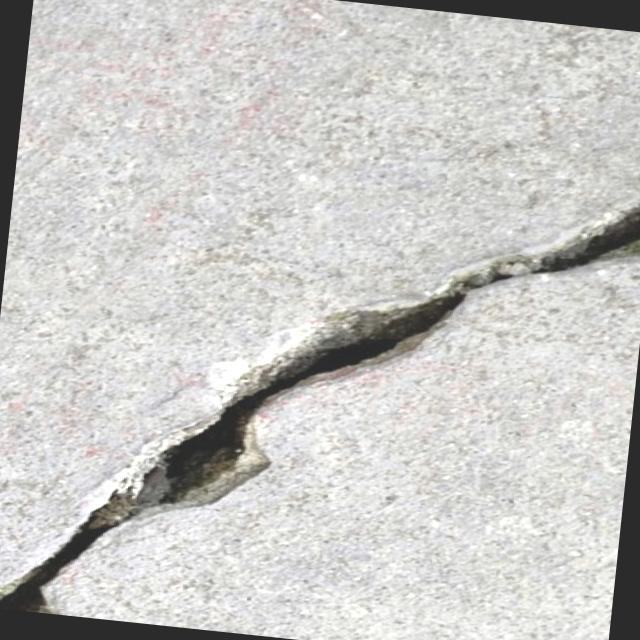crack: (245, 143, 640, 435), (0, 361, 286, 635)
